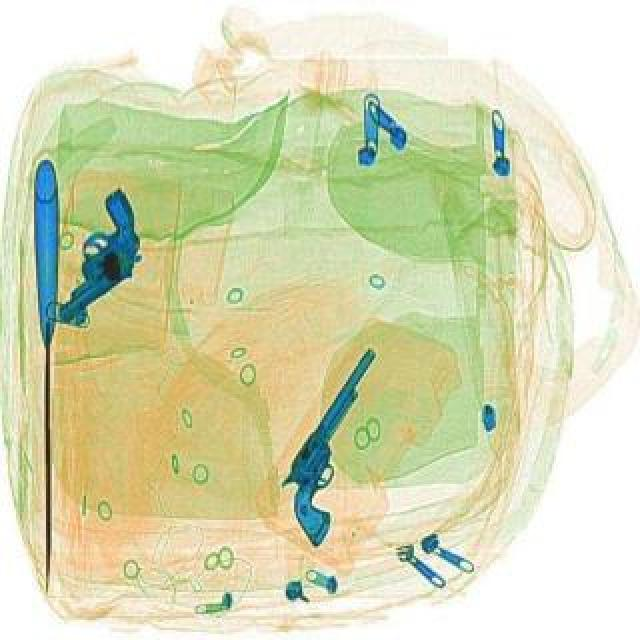gun: (250, 342, 434, 546), (14, 184, 170, 322)
knife: (32, 158, 66, 592)
